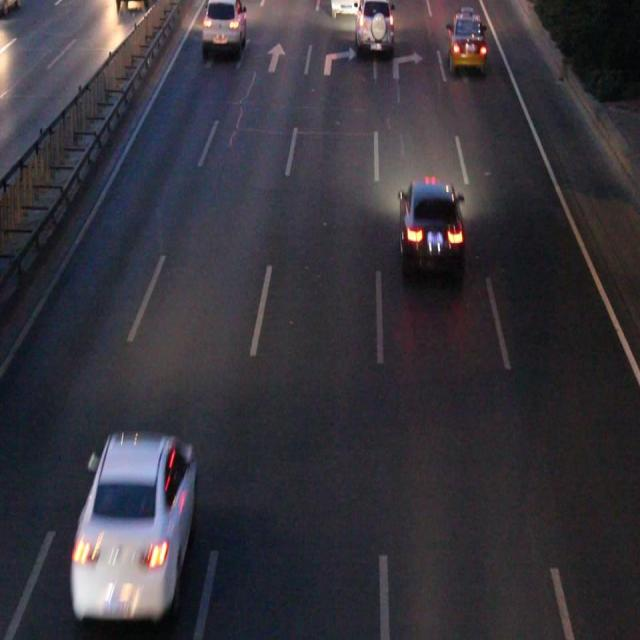car: (74, 432, 194, 612), (396, 181, 463, 274), (201, 1, 244, 52), (445, 16, 484, 65), (356, 1, 392, 45)
